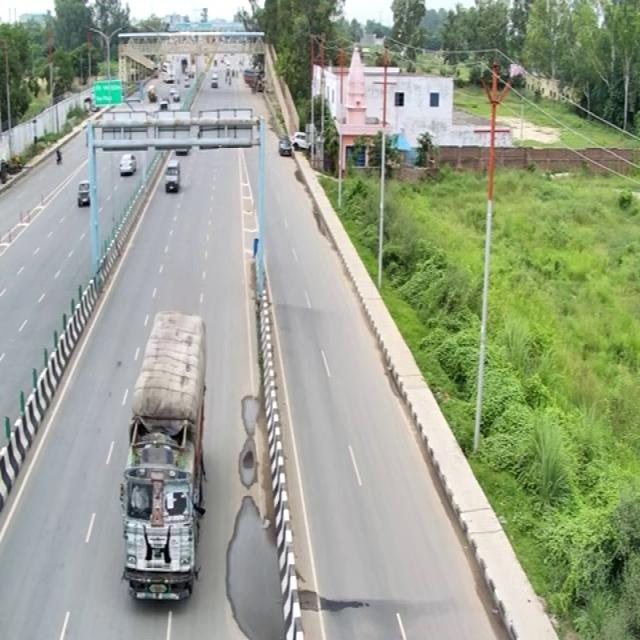car: (214, 115, 246, 145), (96, 131, 125, 156)
